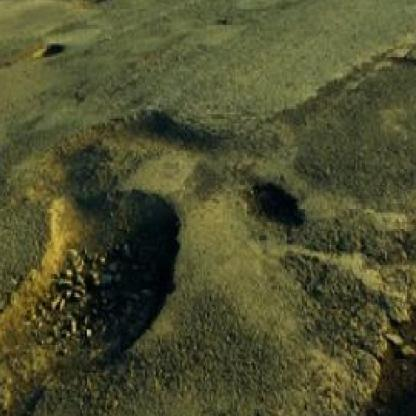pothole: (0, 184, 182, 387), (30, 107, 218, 181), (242, 183, 305, 240), (34, 42, 66, 60), (72, 0, 116, 12), (216, 18, 228, 26)
